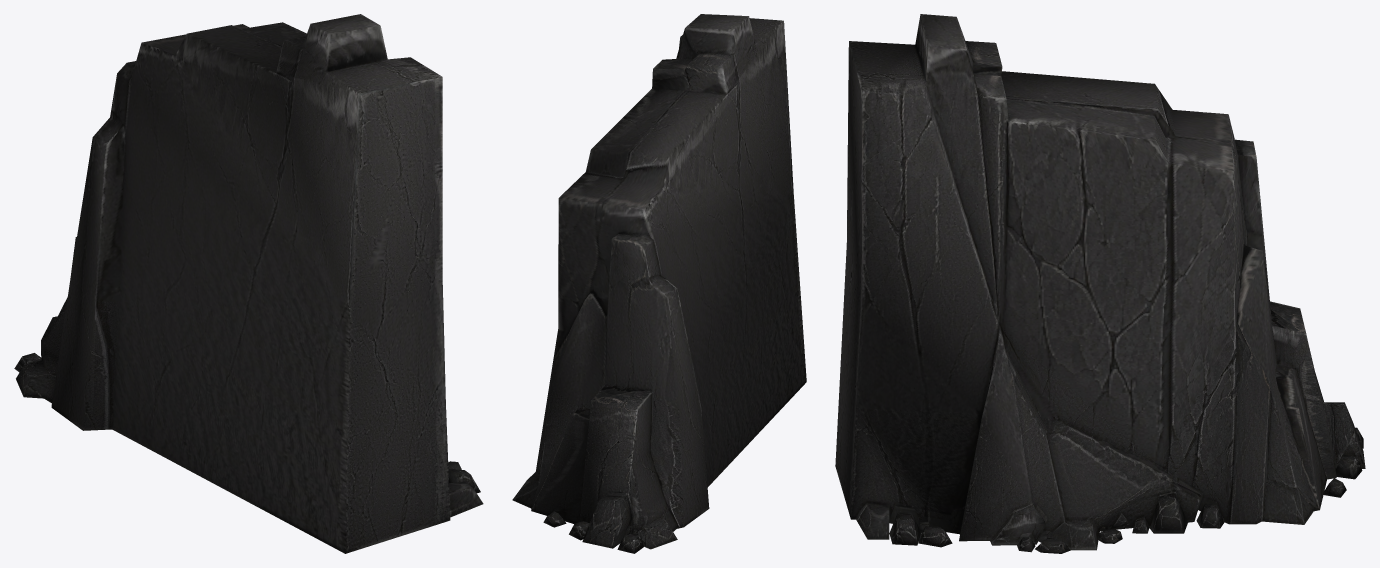
The model's file is tripo_convert_717280c0-5a58-42df-b5bd-b8e5638096fd.fbx.
3 renders of one model, left to right at view 1: azimuth 30°, elevation 25°; view 2: azimuth 150°, elevation 25°; view 3: azimuth 270°, elevation 25°, orthographic. The views are drawn at different scales.
Visible parts, largest first — view 1: tripo_node_717280c0; view 2: tripo_node_717280c0; view 3: tripo_node_717280c0.
Boxes of the visible parts, x1,y1,x2,y2 form: tripo_node_717280c0: [14, 14, 483, 553]; tripo_node_717280c0: [512, 14, 806, 553]; tripo_node_717280c0: [835, 14, 1365, 553].
Bounding box in the file's own units: 0.5605 × 0.9668 × 0.998.
Materials: 1 (1 with a texture image).
